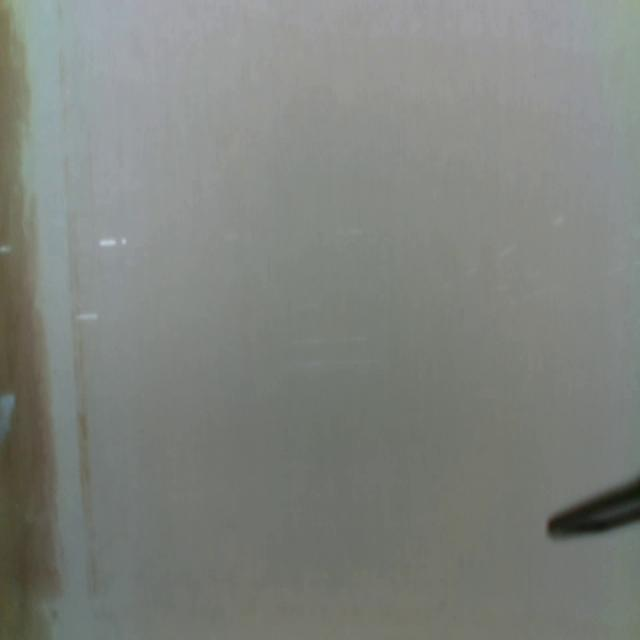color bleeding: (0, 0, 107, 639)
